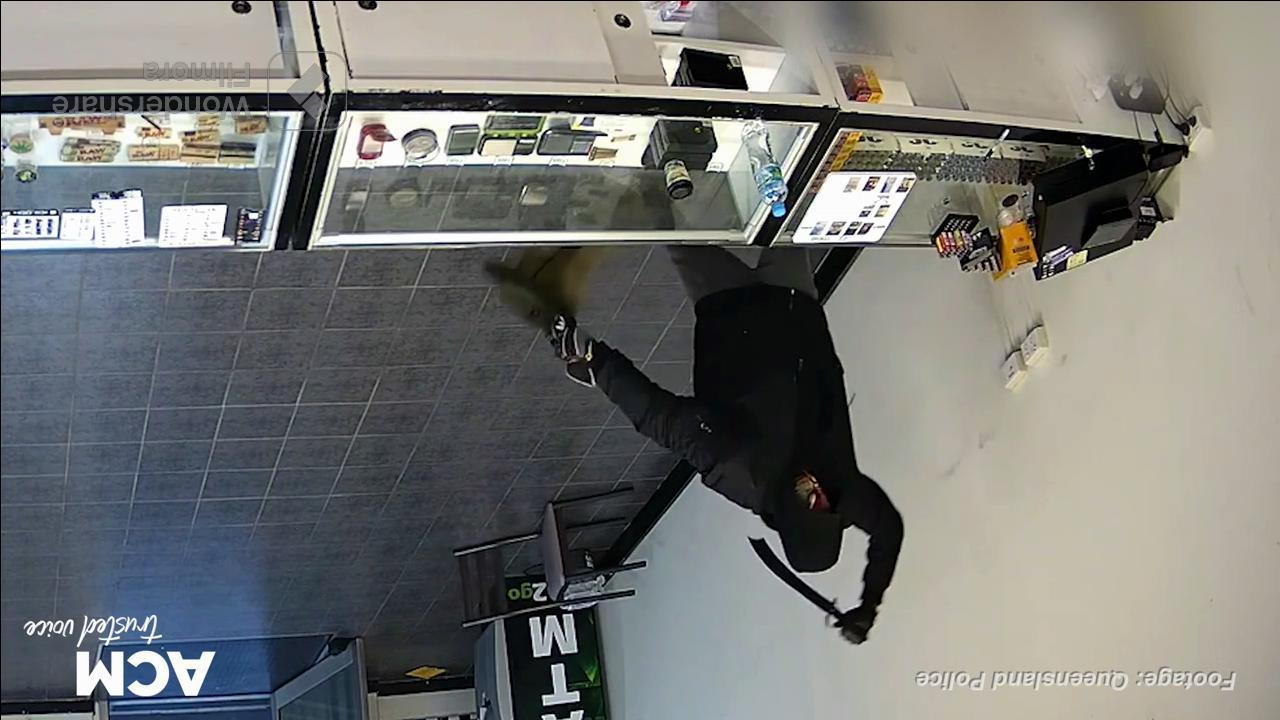melee: (744, 531, 863, 640)
